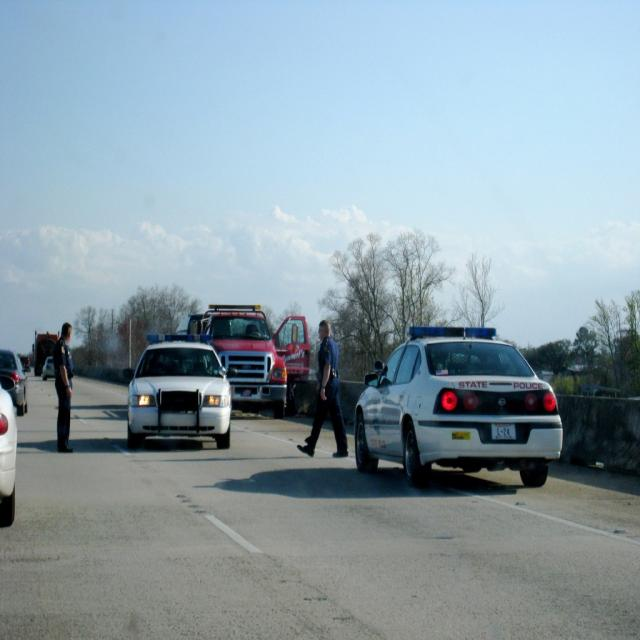car: (352, 312, 562, 487), (121, 331, 237, 449)
